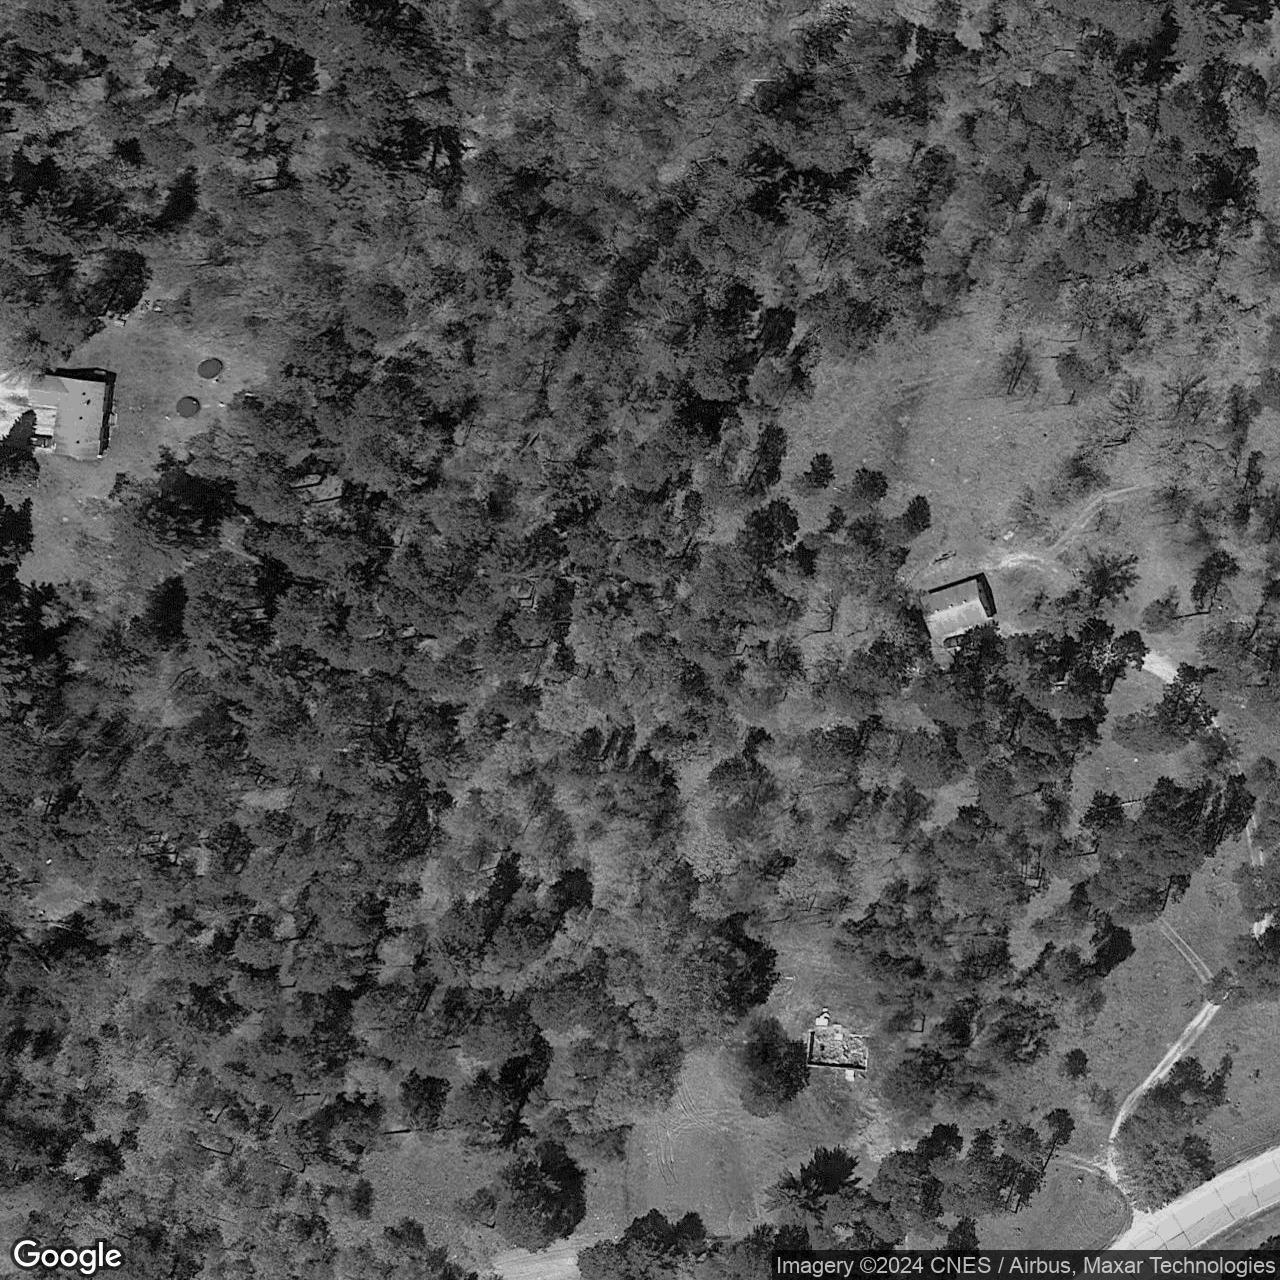House: (25, 372, 110, 464), (918, 576, 996, 645)
